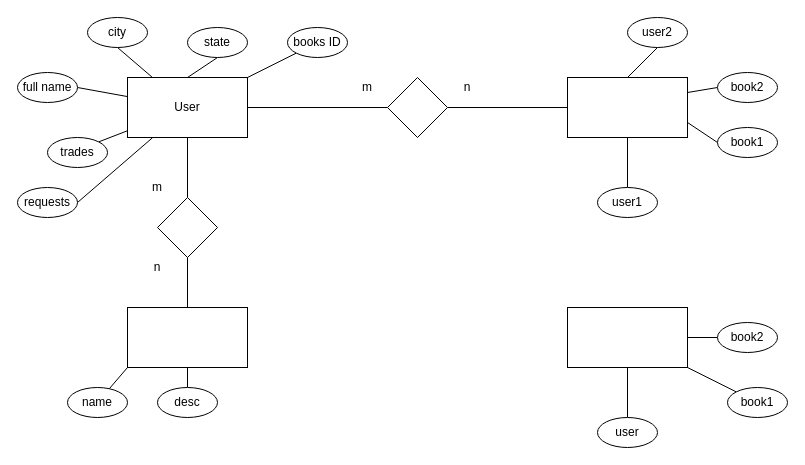
Some shapes in this 805 by 465 pixel diagram are drawn without their labels. The centre of each missing label's shape, as x and y in pixels:
Book: point (187, 337)
Request: point (627, 337)
Trade: point (627, 107)
